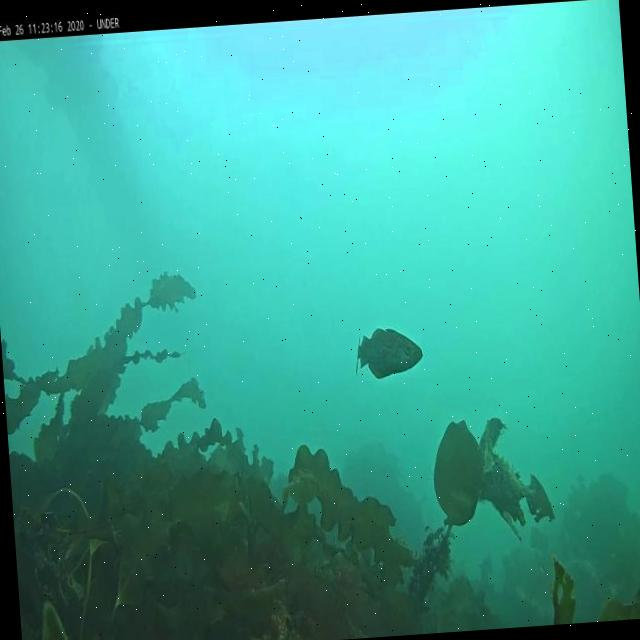fish: (354, 329, 424, 378)
